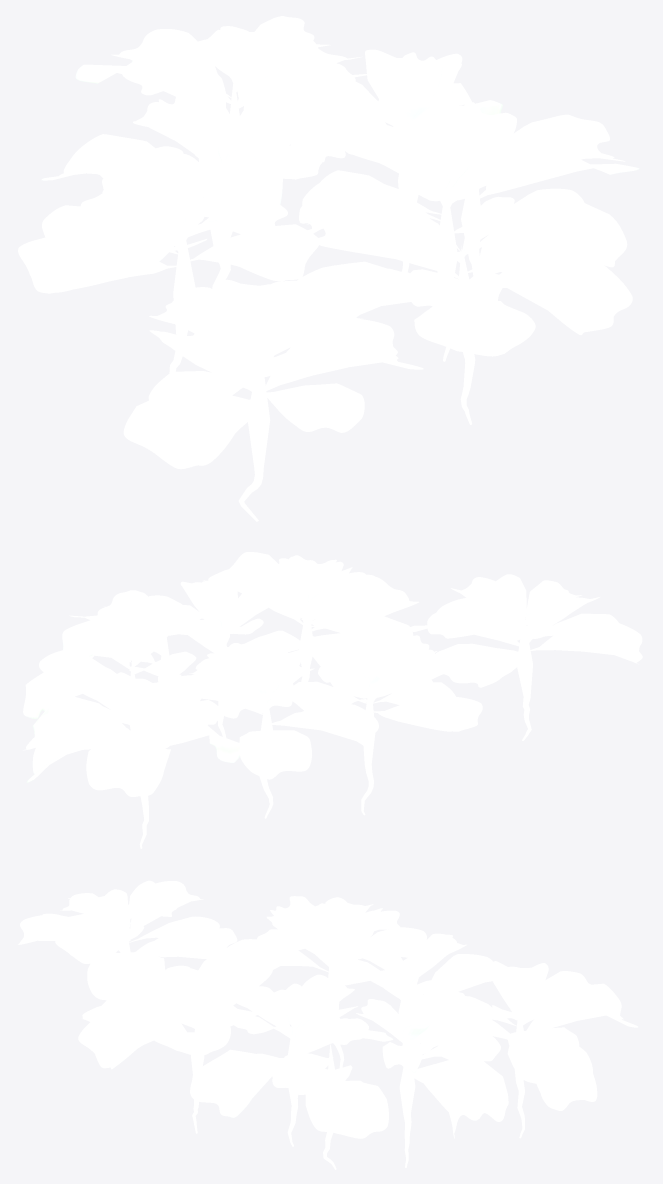
3 views of the same model, one above another, from view 1: azimuth 30°, elevation 25°; view 2: azimuth 150°, elevation 25°; view 3: azimuth 270°, elevation 25° (orthographic). The views are drawn at different scales.
Parts seen in each view (by area): view 1: SM_BM_Water_Lettuce_05_LOD0; view 2: SM_BM_Water_Lettuce_05_LOD0; view 3: SM_BM_Water_Lettuce_05_LOD0.
Part boxes in pixels (<box>): SM_BM_Water_Lettuce_05_LOD0: <box>18,16,639,521</box>; SM_BM_Water_Lettuce_05_LOD0: <box>23,552,642,848</box>; SM_BM_Water_Lettuce_05_LOD0: <box>18,880,637,1169</box>.
Bounding box in the file's own units: 1.51 × 0.5037 × 1.77.
1 material, 1 textured.
